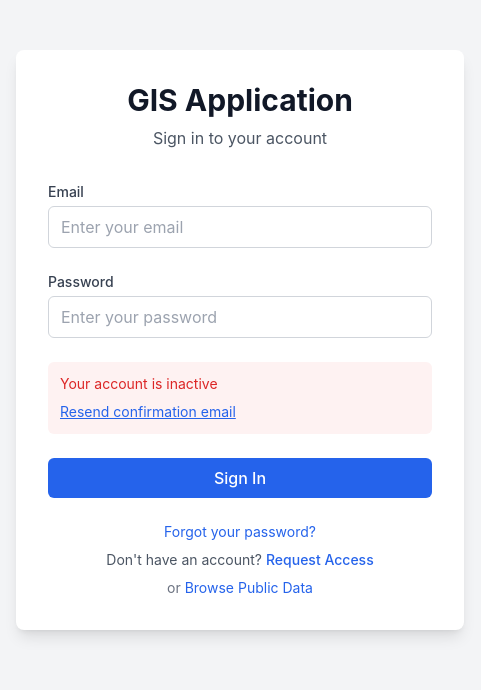
Test: LoginPage › should prompt for email before resending
Click the button "Resend confirmation email" at (148, 412), box top-left (60, 402), bottom-right (236, 422)
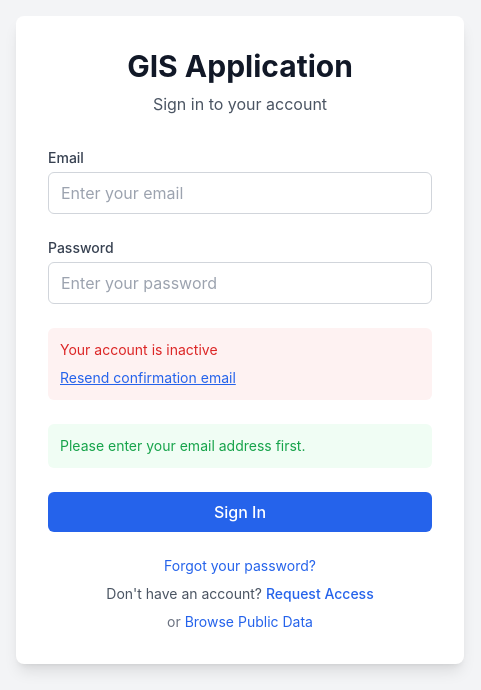
Check: the text "Please enter your email address first." is shown, box top-left (48, 424), bottom-right (432, 468)
